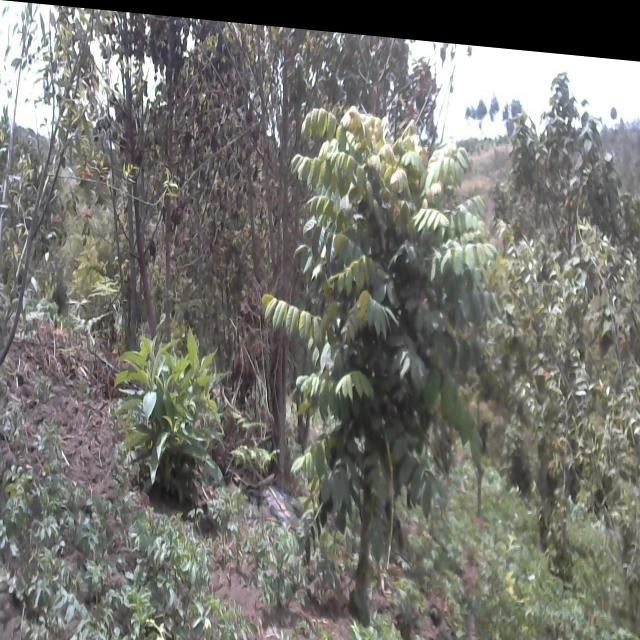Polyscias fulva: (257, 83, 484, 631)
other: (500, 56, 640, 555), (85, 6, 235, 365)
